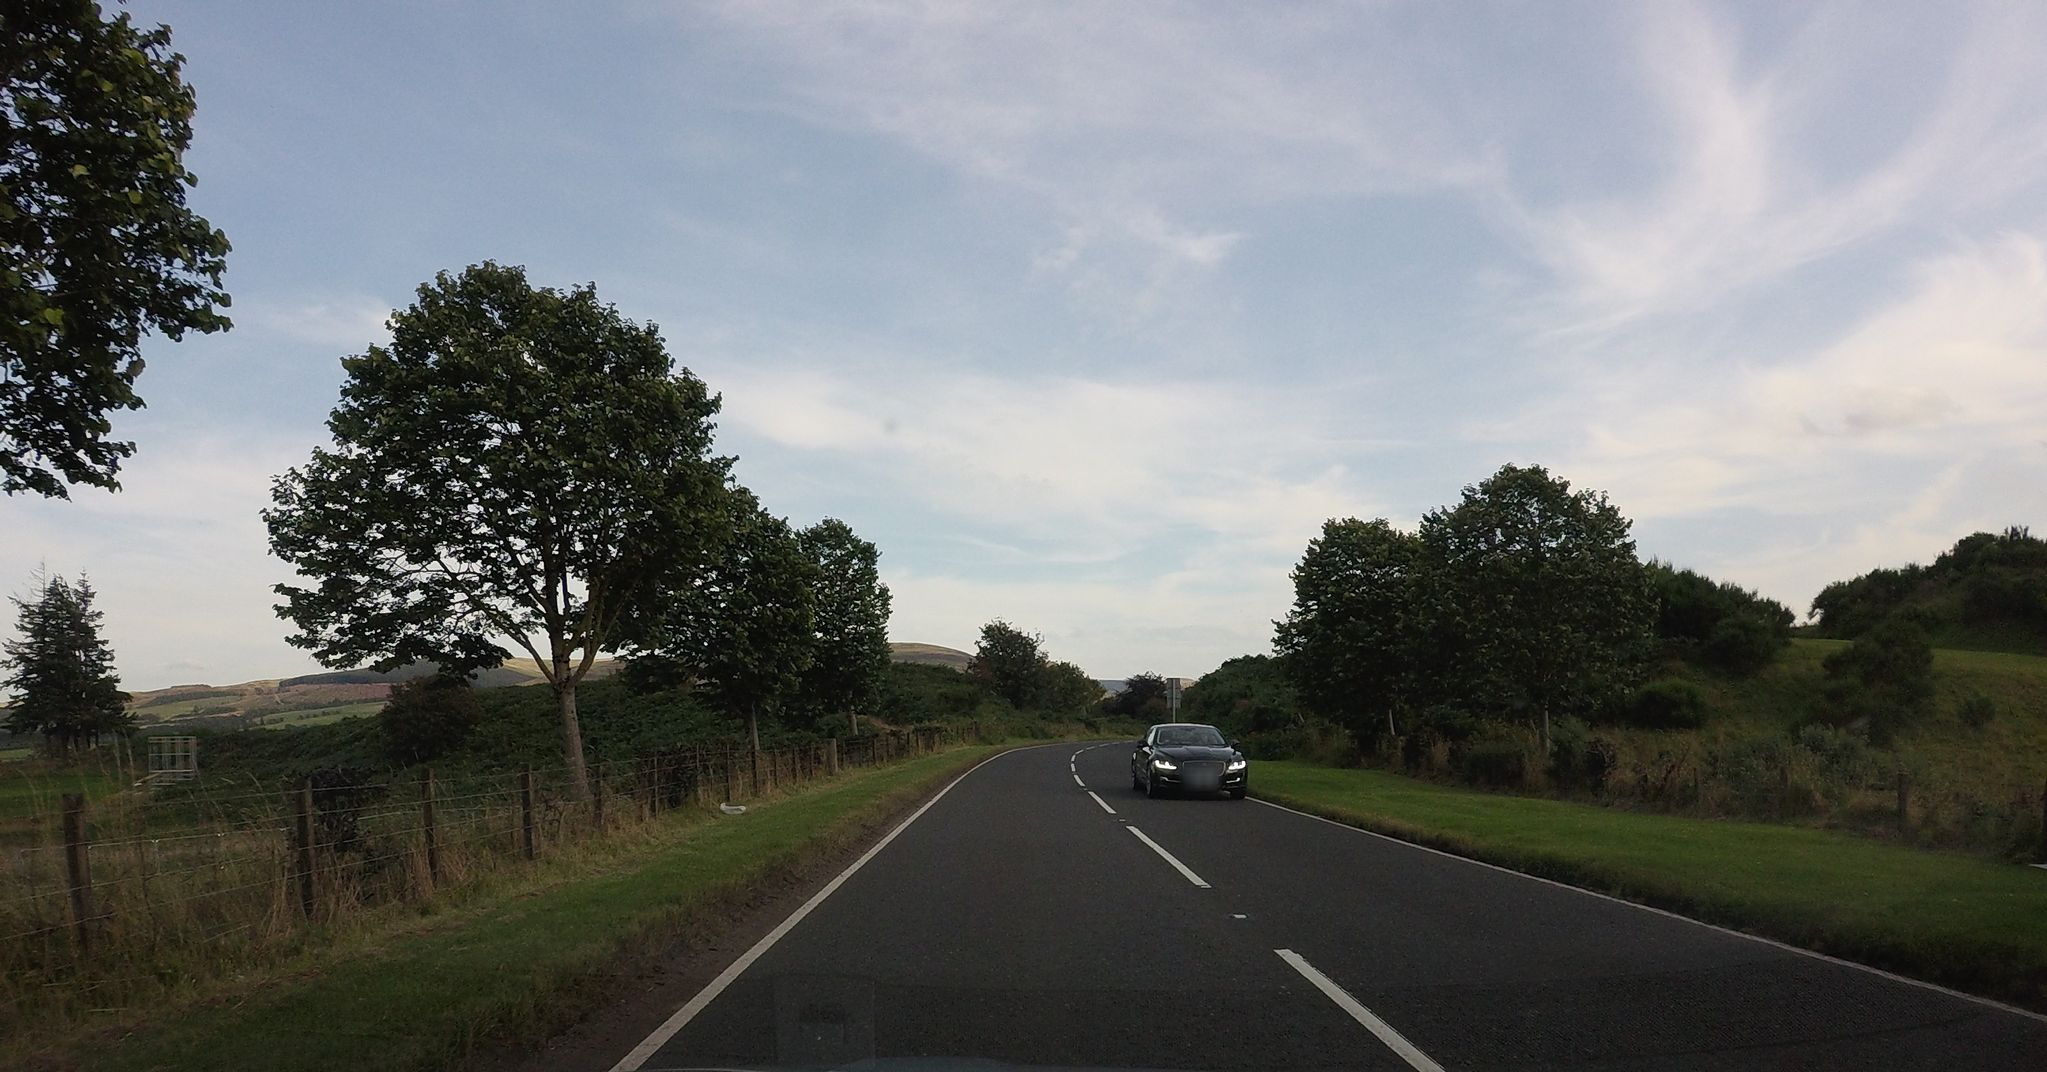car: (1130, 721, 1248, 801)
